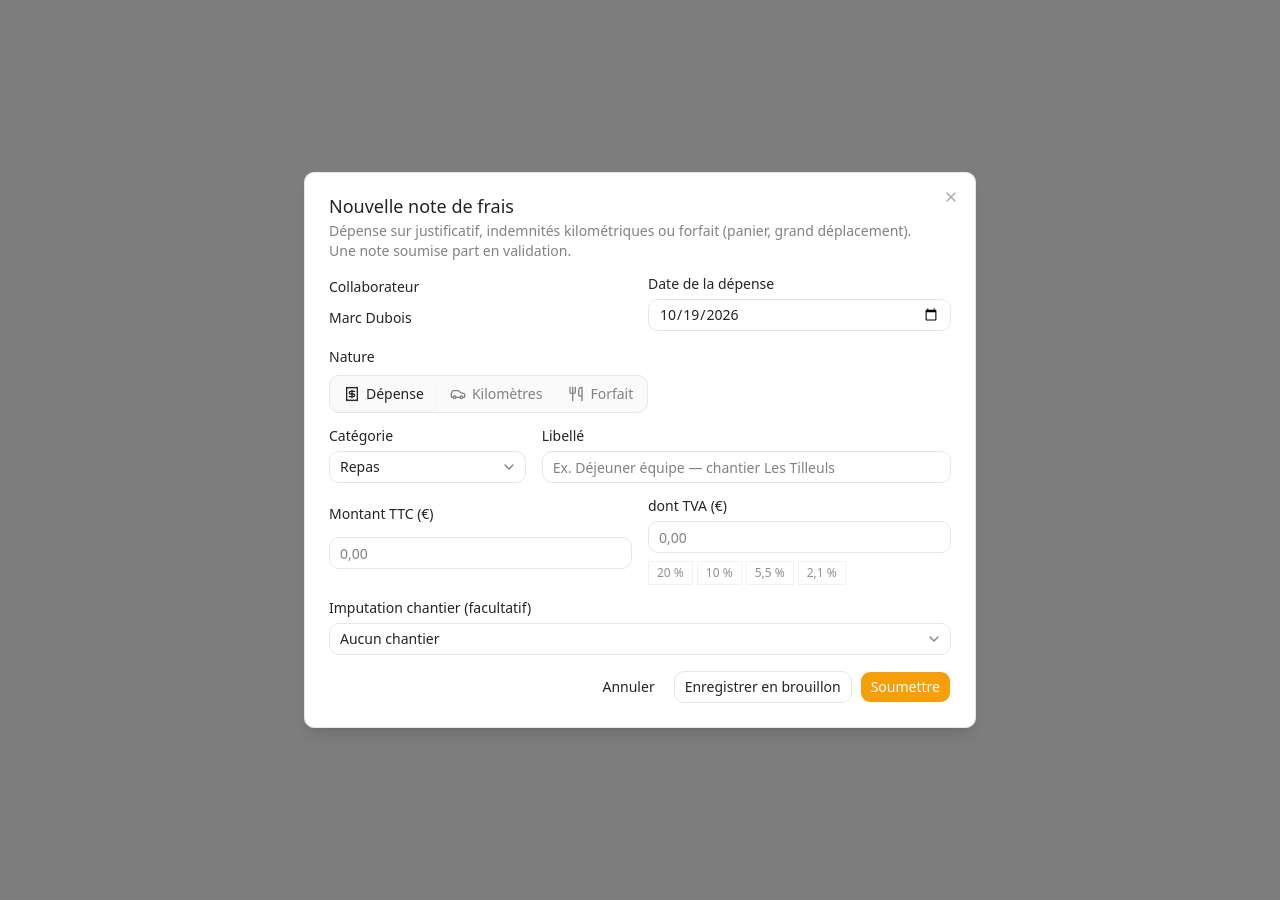
Test case: NoteFraisDialog › calcule un forfait (nombre × unitaire)
The width and height of the screenshot is (1280, 900).
Click the button "Forfait" at (601, 394), box [556, 378, 645, 410]
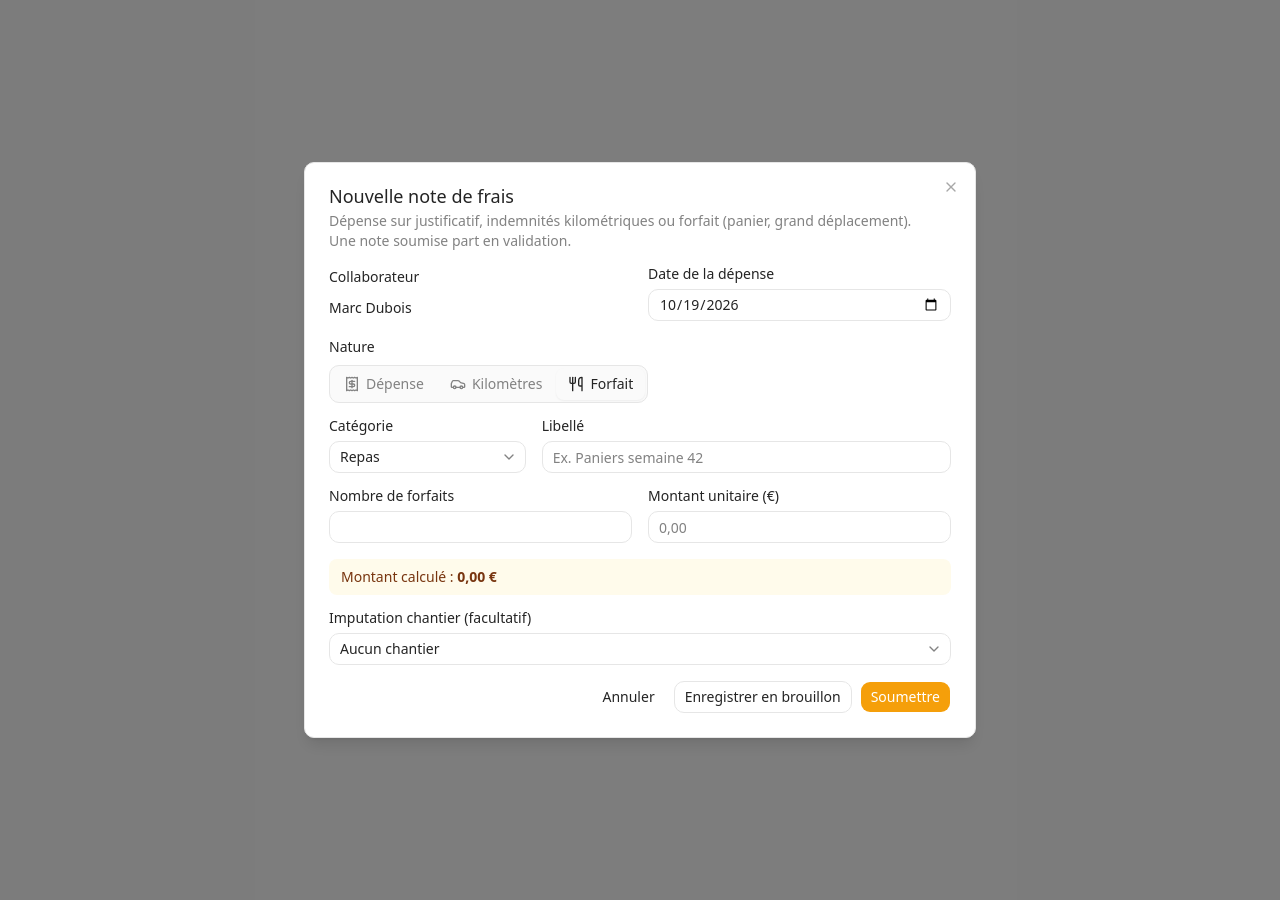
Type "5" into the field labelled "Nombre de forfaits" at (480, 527), box [329, 511, 632, 543]
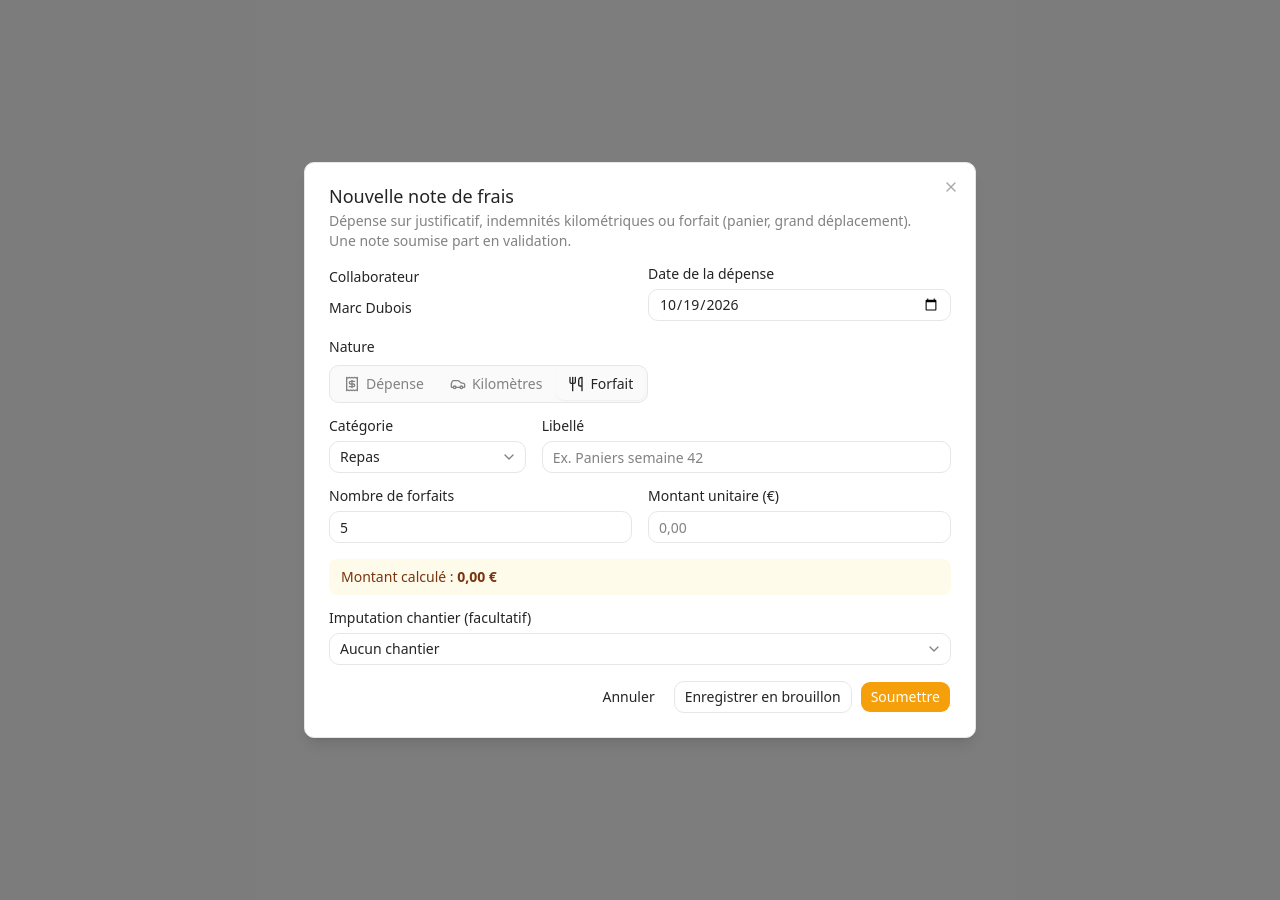
Type "10,40" into the field labelled "Montant unitaire (€)" at (800, 527), box [648, 511, 951, 543]
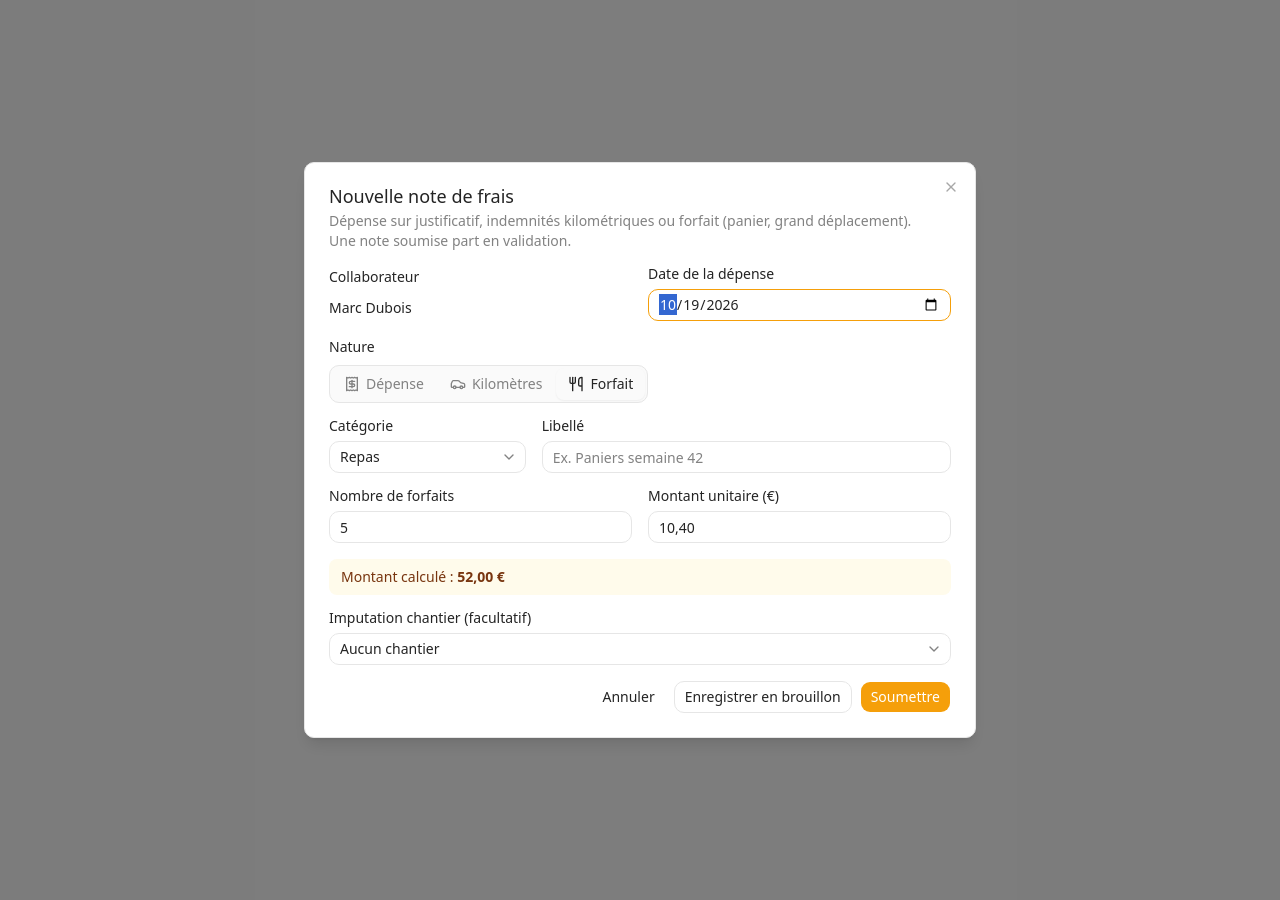
Check: the element with test id "montant-calcule" shows "52,00 €", box [457, 567, 505, 586]
